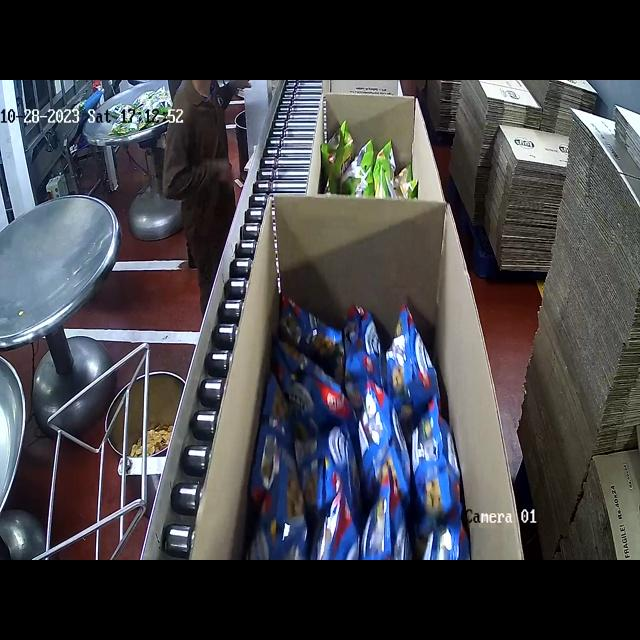paprika: (275, 287, 481, 560)
yogurt: (323, 120, 433, 199)
